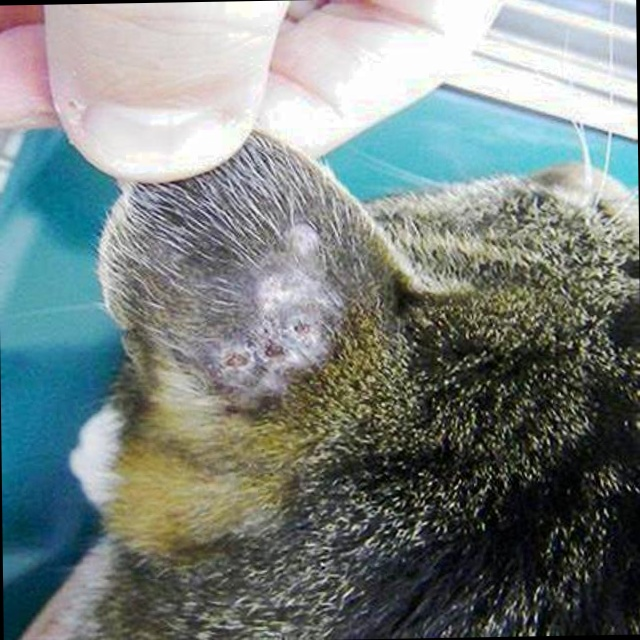ringworm: (217, 225, 344, 395)
